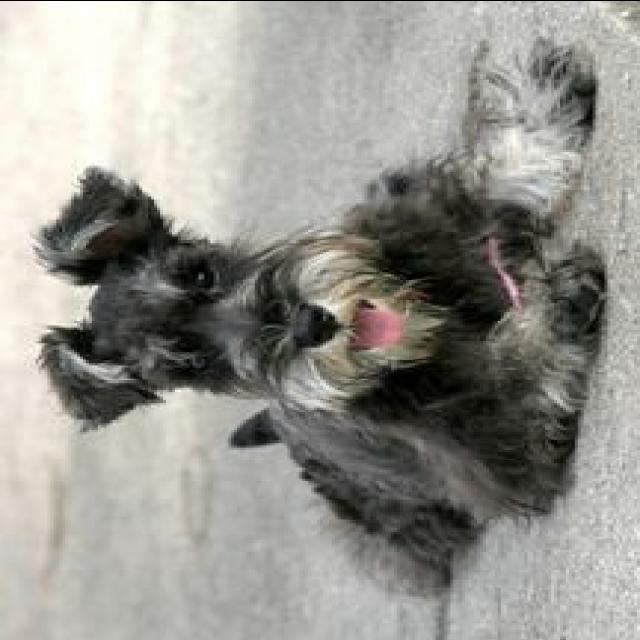standard_schnauzer: (32, 44, 604, 598)
